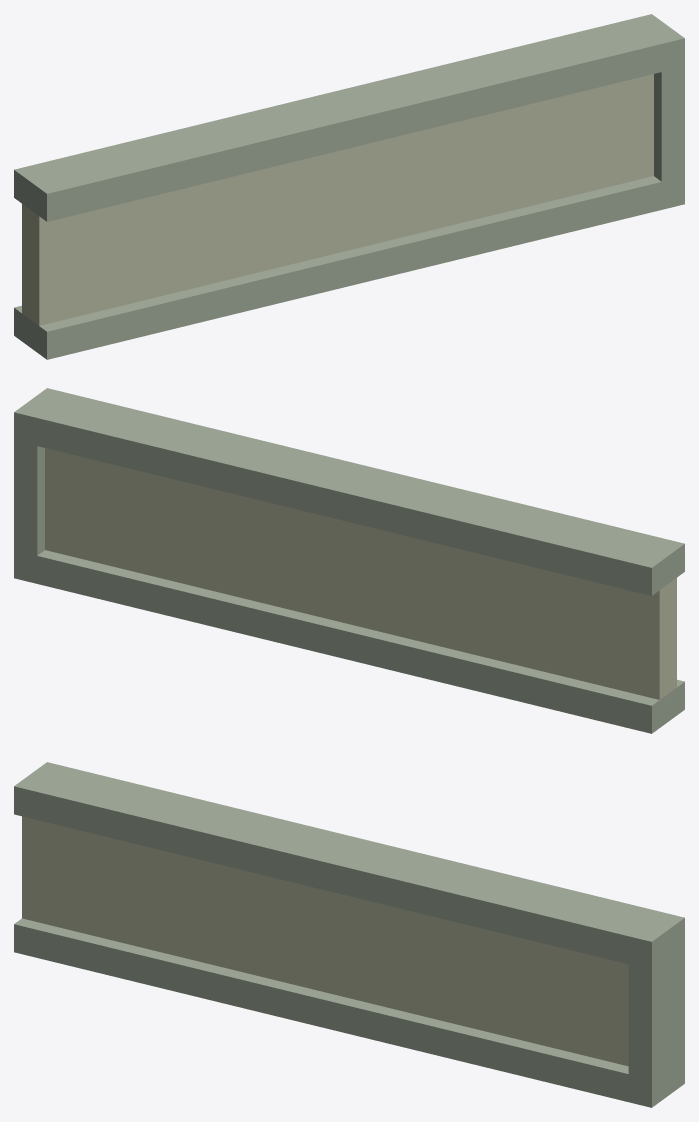
Rendered from Barrière pierre 1 fixed.fbx.
3 views of the same model, one above another, from view 1: azimuth 30°, elevation 25°; view 2: azimuth 150°, elevation 25°; view 3: azimuth 330°, elevation 25° (orthographic).
Parts seen in each view (by area): view 1: Rambarde Gauche 2.0; view 2: Rambarde Gauche 2.0; view 3: Rambarde Gauche 2.0.
Part boxes in pixels (left/top/right/bottom): Rambarde Gauche 2.0: left=14, top=14, right=684, bottom=359; Rambarde Gauche 2.0: left=14, top=388, right=684, bottom=733; Rambarde Gauche 2.0: left=14, top=762, right=684, bottom=1107.
Bounding box in the file's own units: 245 × 60.92 × 22.05.
